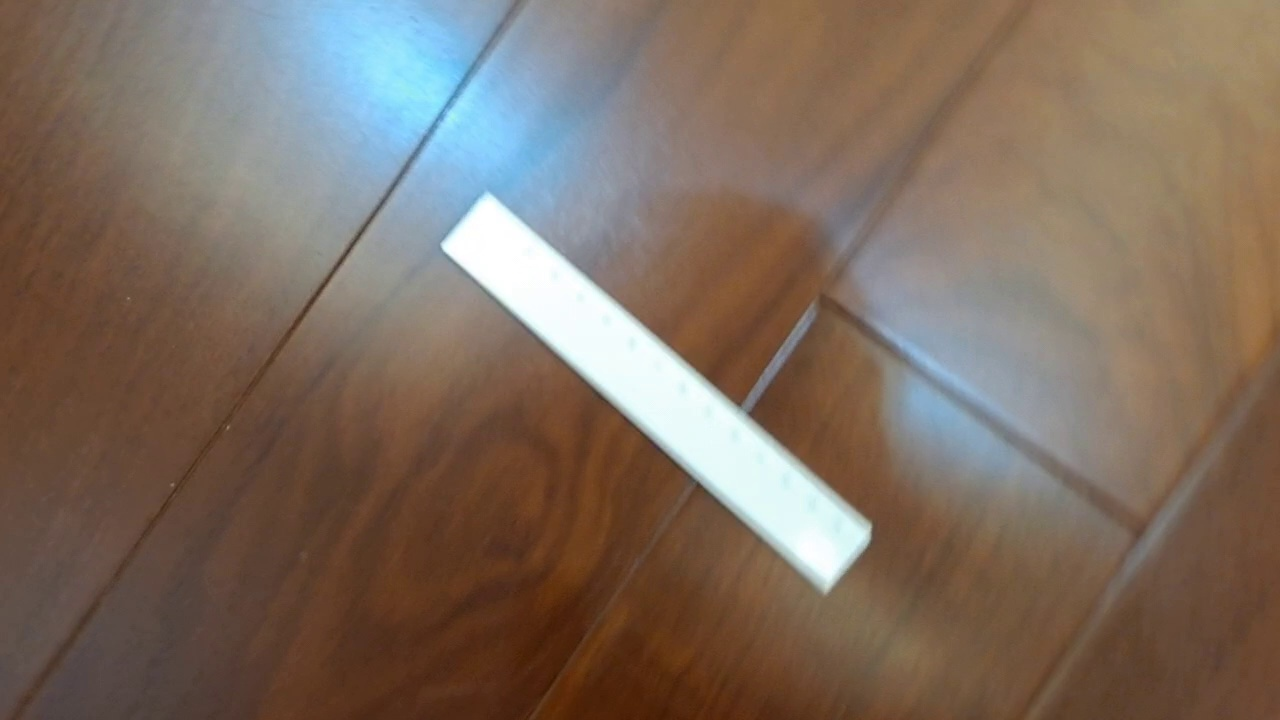ruler: (438, 190, 875, 599)
